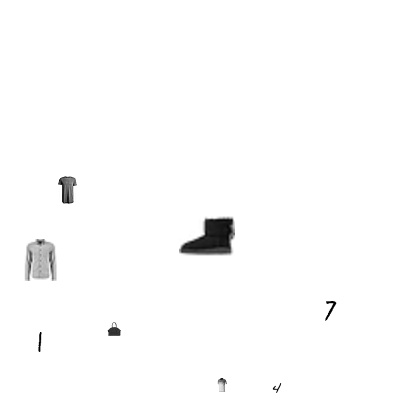1: (25, 327, 53, 355)
4: (270, 381, 284, 395)
7: (316, 294, 344, 322)
Ankle_boot: (179, 207, 235, 263)
Bag: (107, 322, 121, 336)
Shirt: (19, 239, 61, 281)
T-shirt/top: (53, 176, 81, 204), (215, 378, 229, 392)
